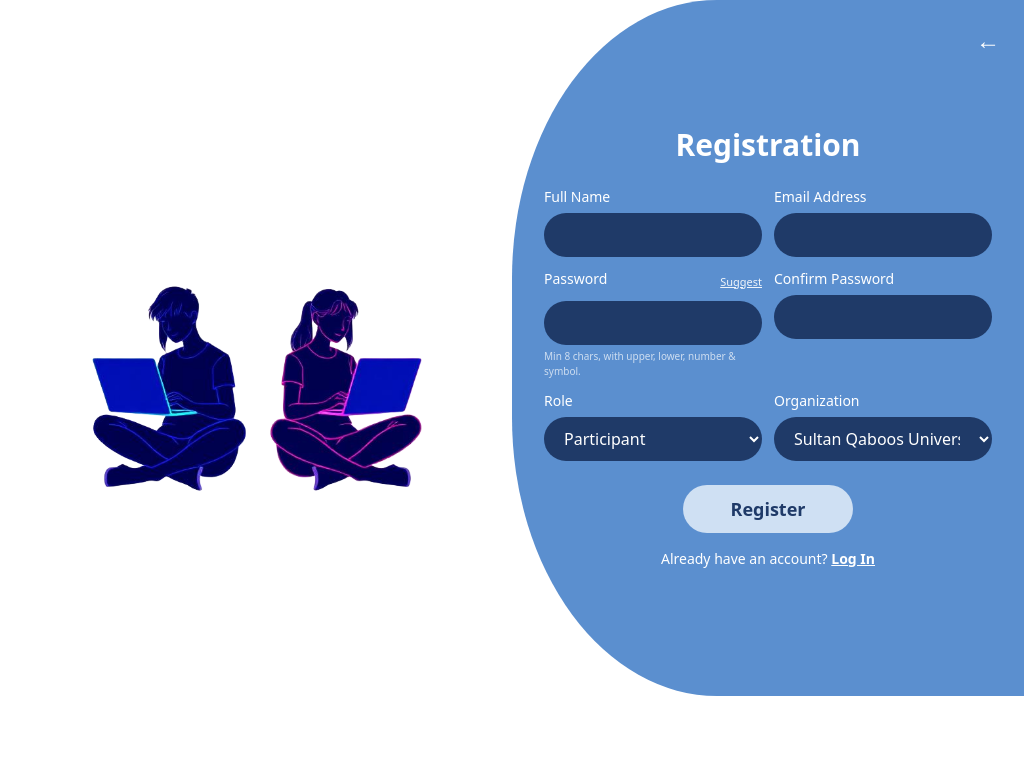
Scenario: Register page › rejects an invalid email
Type "Khadija" into the field below "Full Name" at [653, 235], box [544,213,762,257]
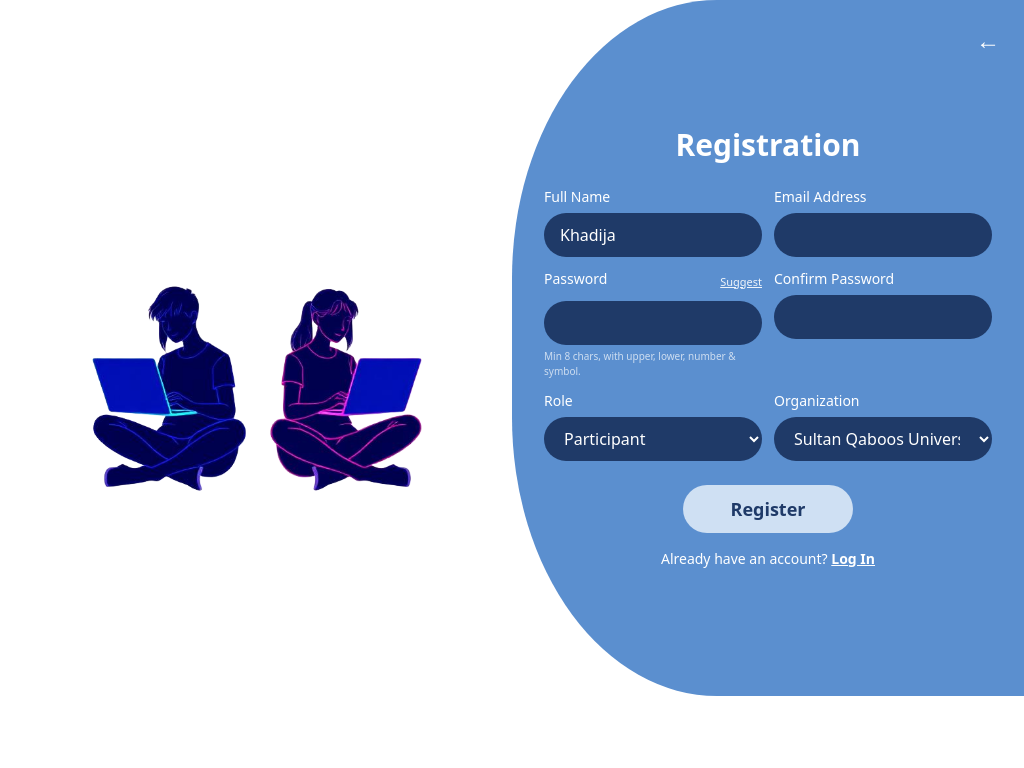
Type "bad-email" into the field below "Email Address" at [883, 235], box [774,213,992,257]
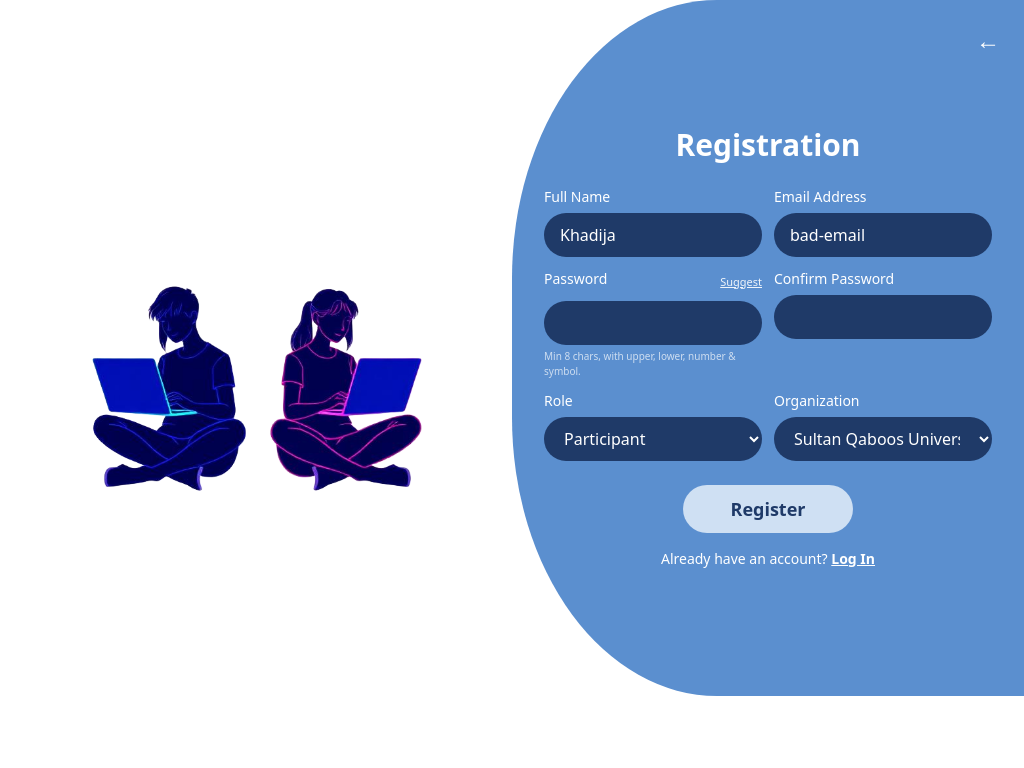
Type "Pass@1234" into the 1st password field at [653, 323], box [544,301,762,345]
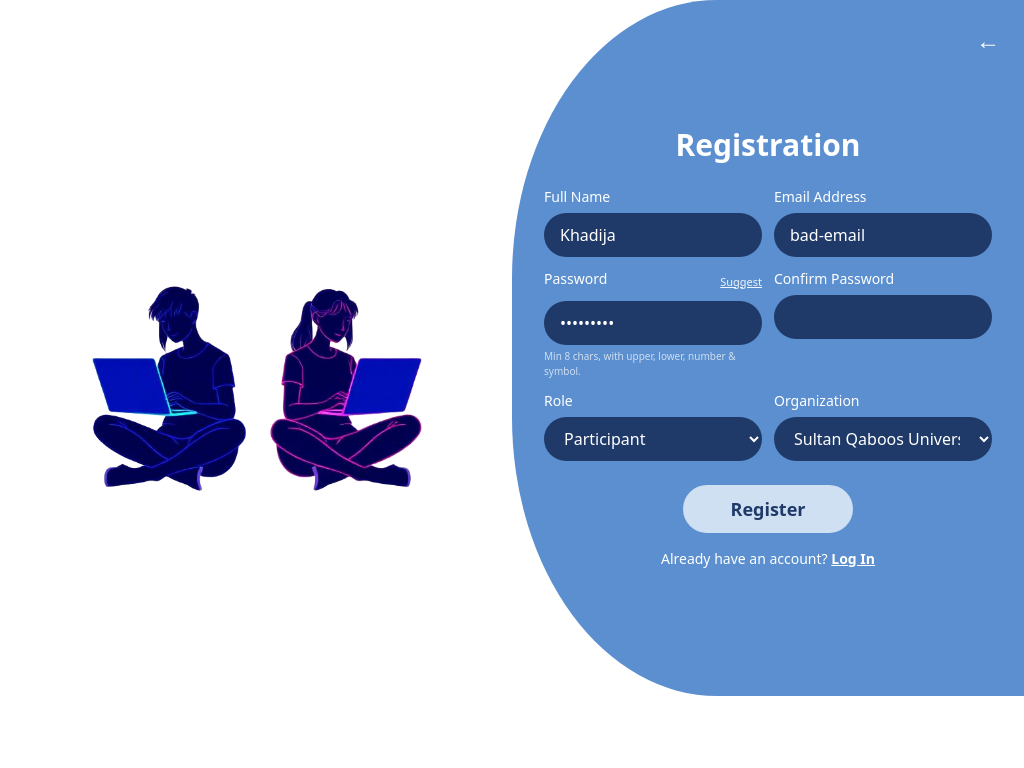
Type "Pass@1234" into the password field below "Confirm Password" at [883, 317], box [774,295,992,339]
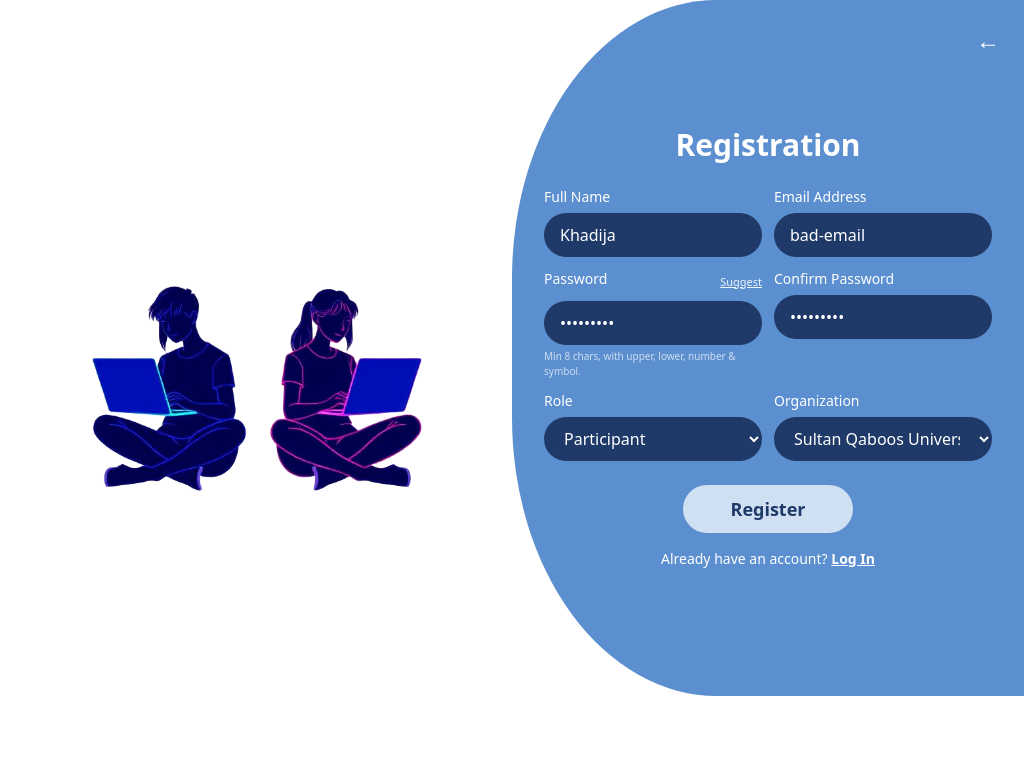
Submit the form, box [544,103,992,593]
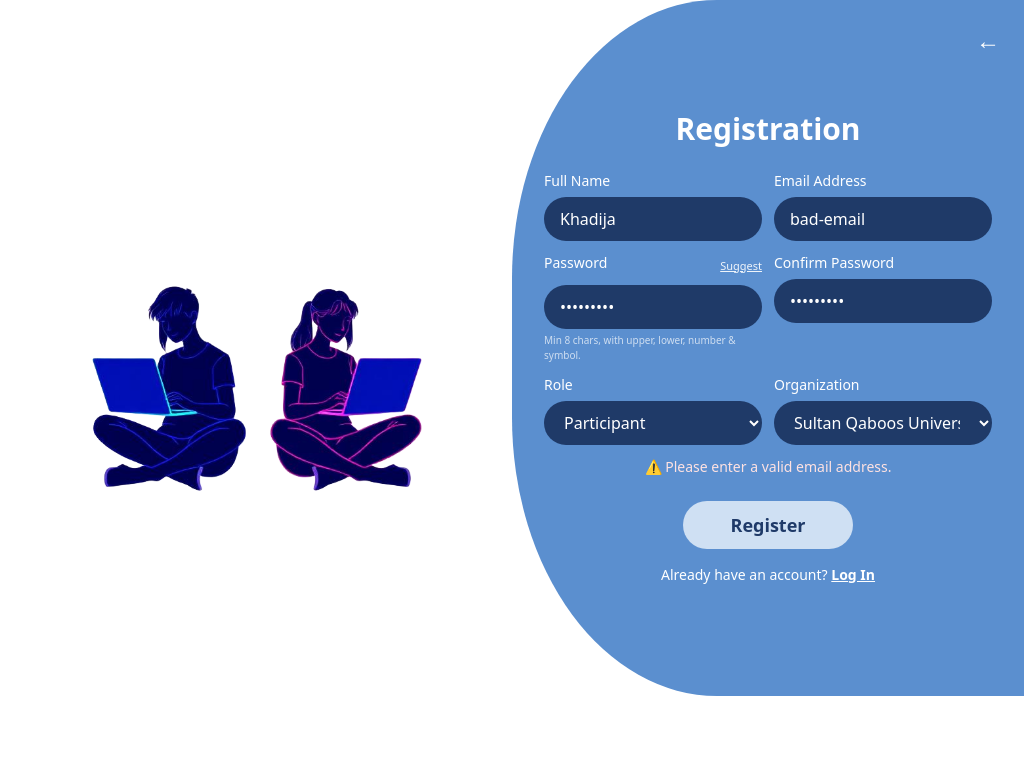
Expected: the text "⚠️ Please enter a valid email address." is shown, [644,457,891,476]
